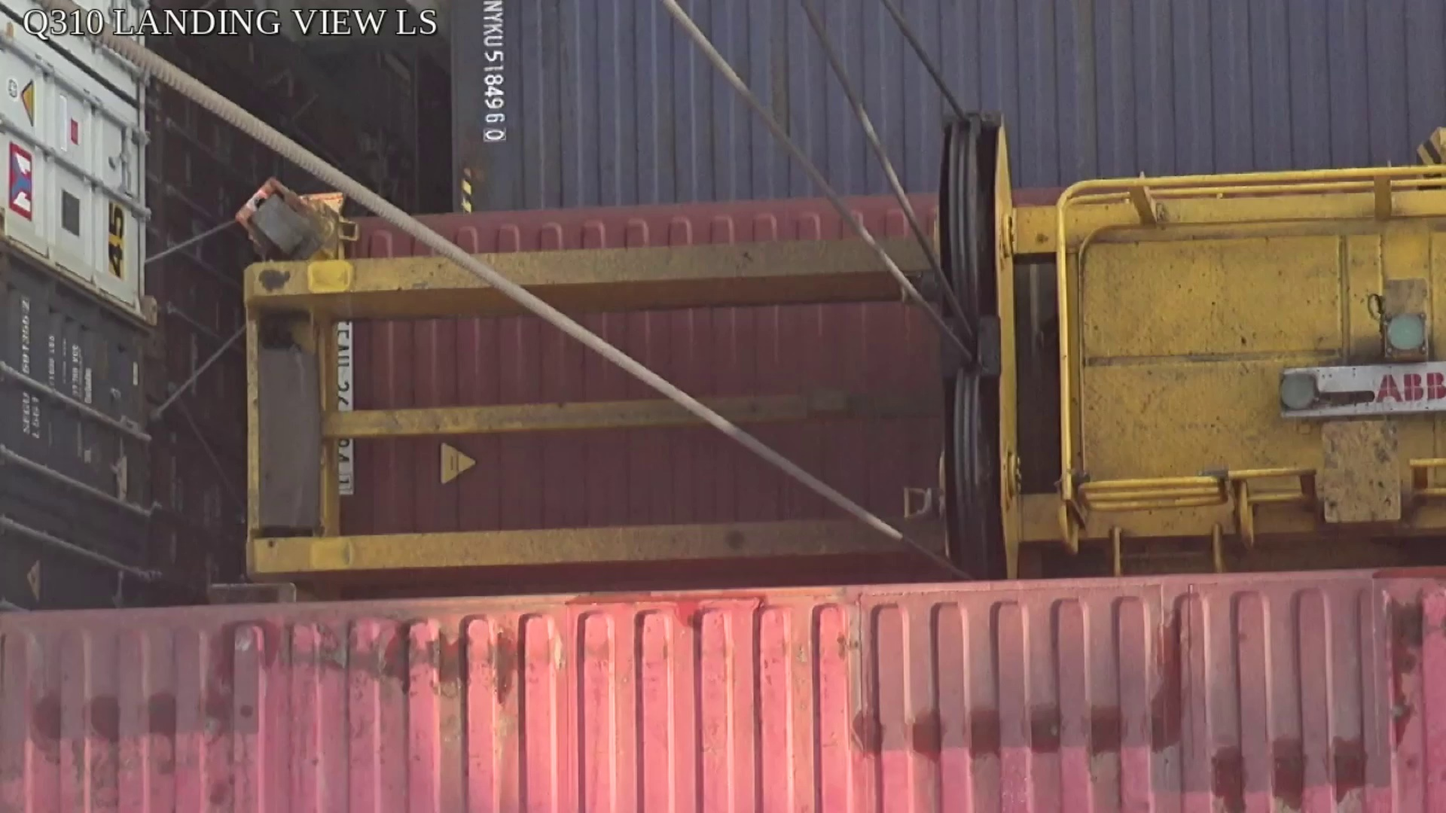aa: (935, 114, 1023, 574)
